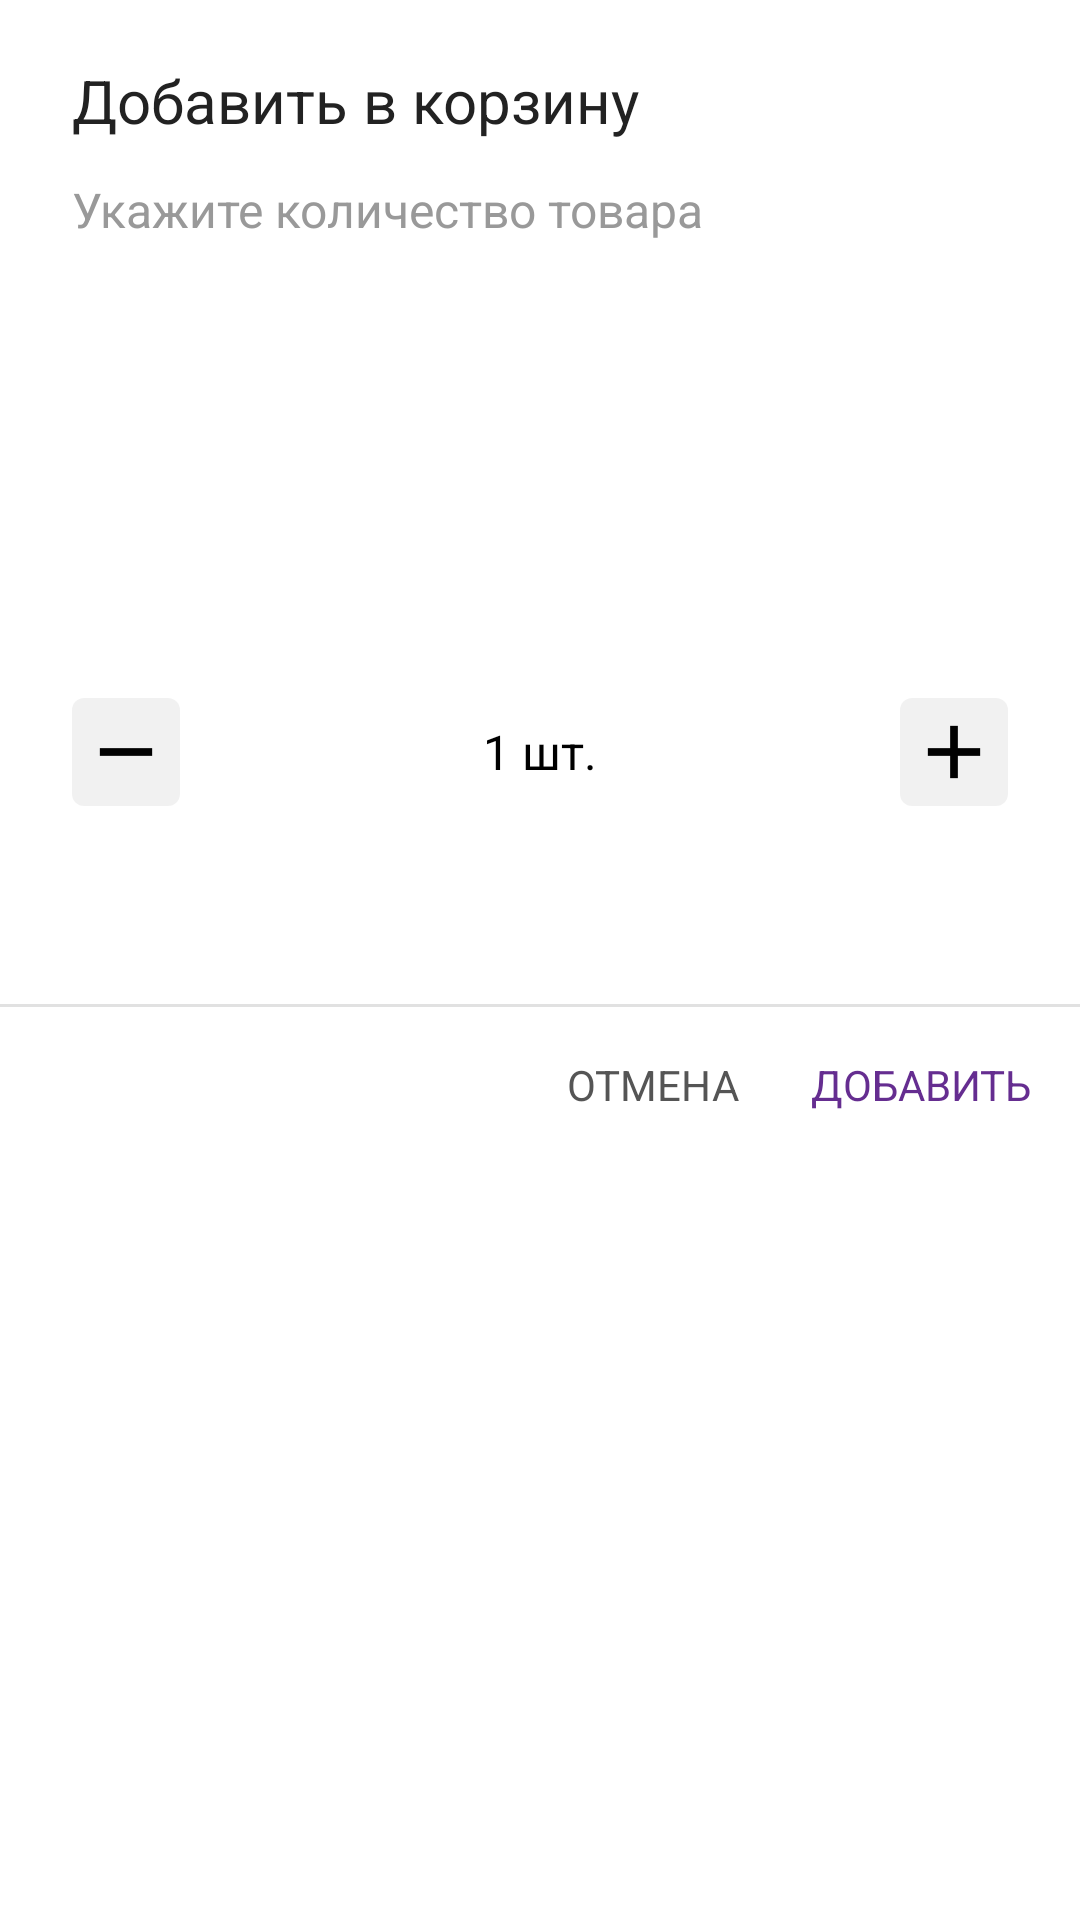

Screen size 1080px x 1920px. Icon name, then its center in pixels as (x=x, y=y):
plus: (x=954, y=752)
